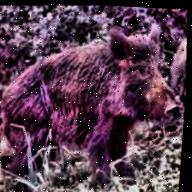boar: (0, 12, 190, 192)
